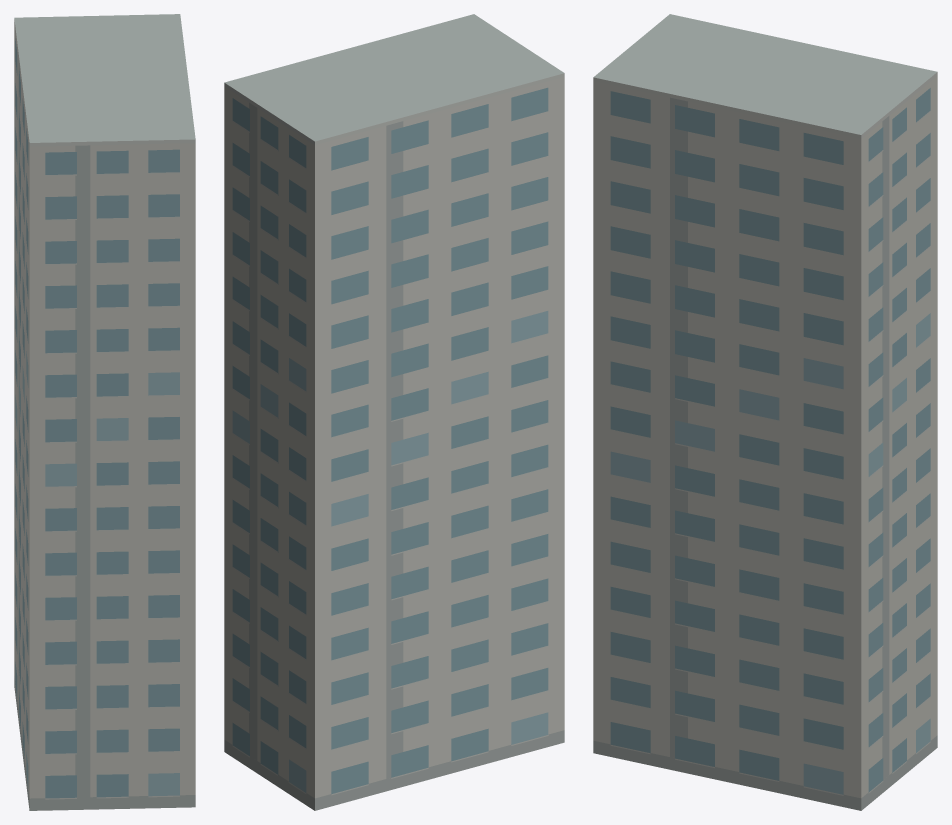
File: residential-6f256342-af5b-464b-a10e-0a056a534380.glb
The picture shows the model from 3 angles, left to right: view 1: azimuth 30°, elevation 25°; view 2: azimuth 150°, elevation 25°; view 3: azimuth 270°, elevation 25°; orthographic projection.
Parts seen in each view (by area): view 1: residential-6f256342-af5b-464b-a10e-0a056a534380.tmp; view 2: residential-6f256342-af5b-464b-a10e-0a056a534380.tmp; view 3: residential-6f256342-af5b-464b-a10e-0a056a534380.tmp.
Boxes of the visible parts, left/top/right/bottom form: residential-6f256342-af5b-464b-a10e-0a056a534380.tmp: left=14, top=14, right=195, bottom=810; residential-6f256342-af5b-464b-a10e-0a056a534380.tmp: left=224, top=14, right=564, bottom=810; residential-6f256342-af5b-464b-a10e-0a056a534380.tmp: left=593, top=14, right=937, bottom=810.
Size of the model in its own units: 16.92 by 44 by 20.33.
